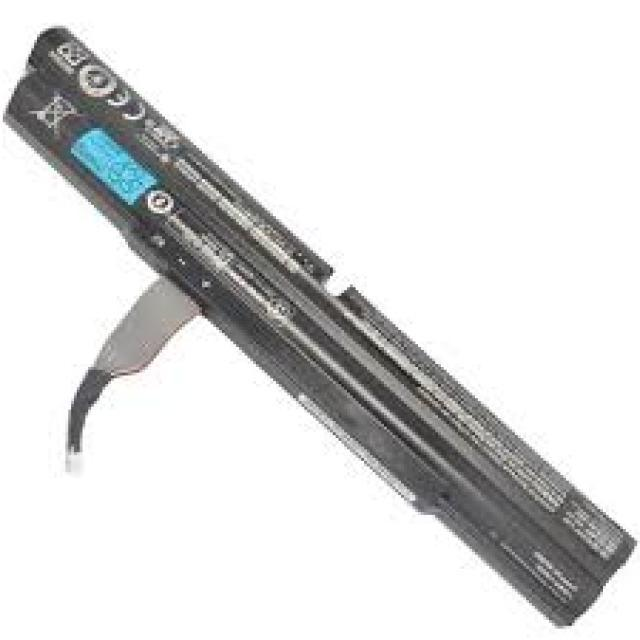battery: (6, 27, 640, 638)
